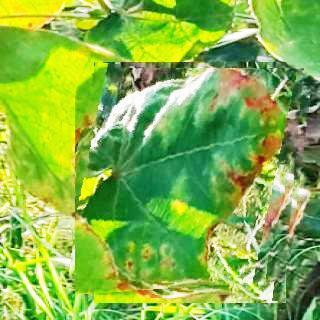blight: (75, 68, 305, 296)
